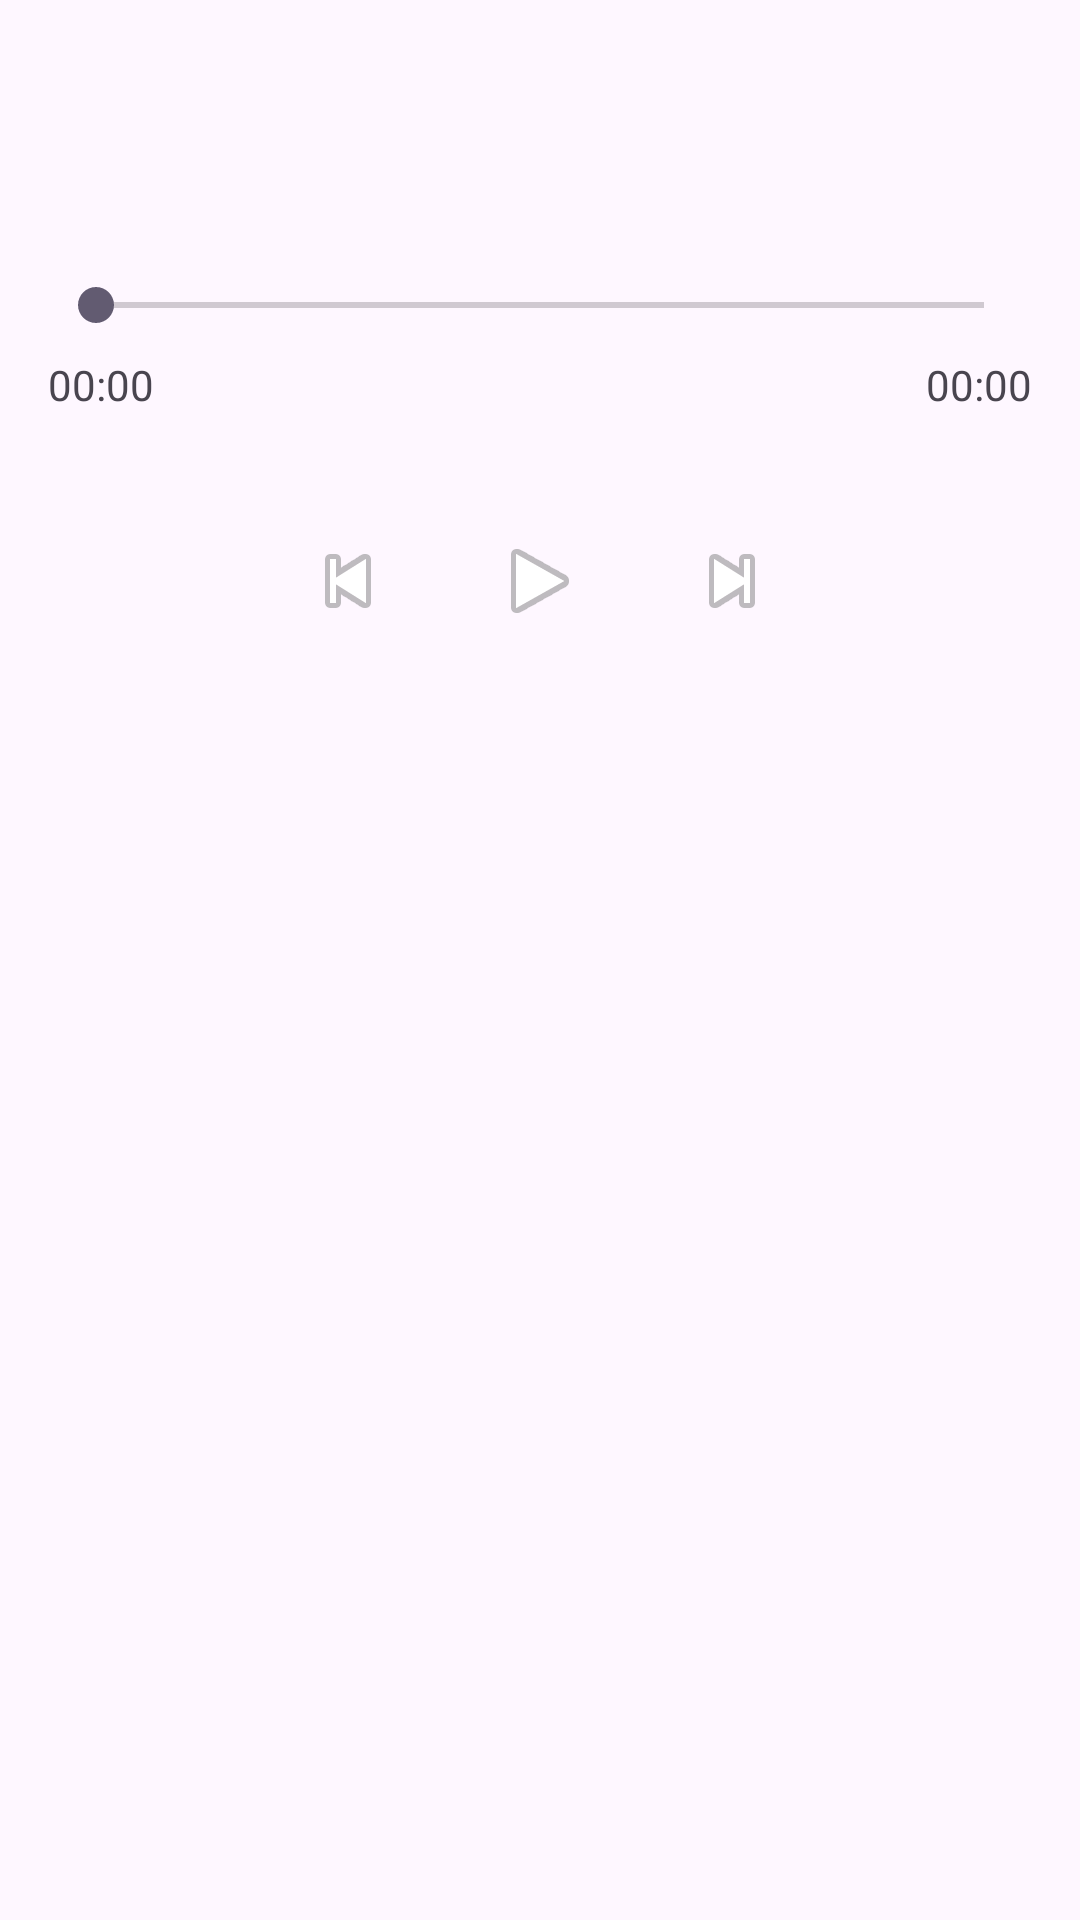

Icon bounding boxes for this 1080x1920 phone screenshot, format (x1, y1, x2, y2):
Воспроизвести: (511, 549, 569, 613)
Вперёд: (709, 554, 755, 608)
Назад: (325, 554, 371, 608)
